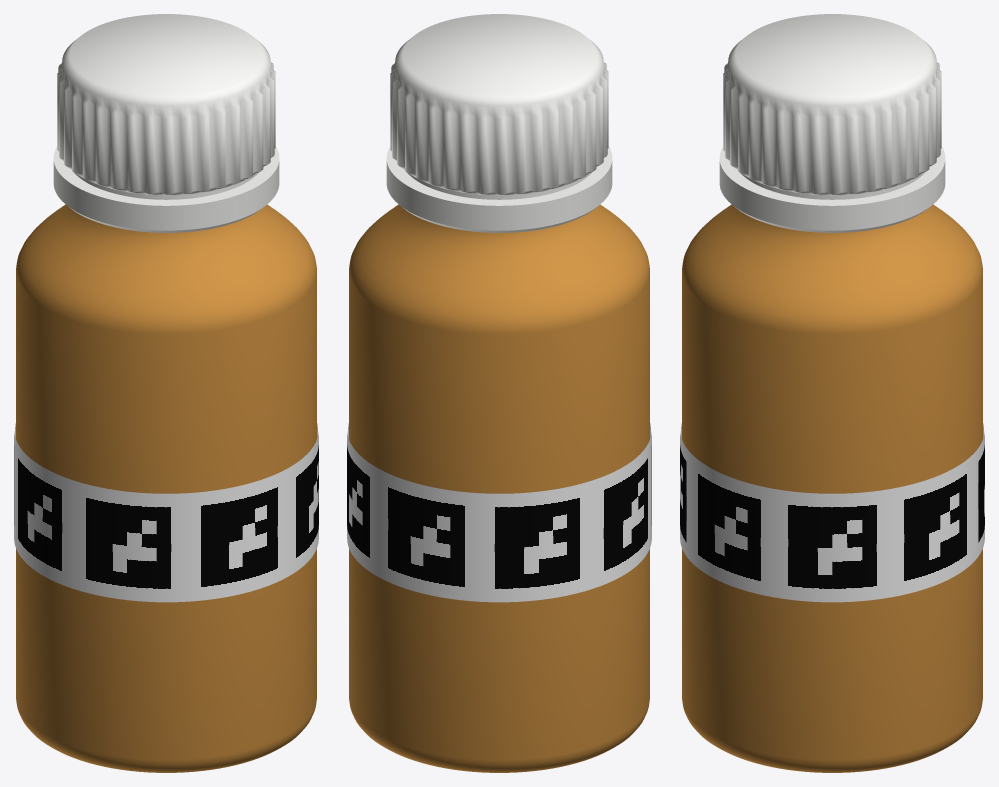
Rendered from SMP-0123_2008354050199.glb.
3 renders of one model, left to right at view 1: azimuth 30°, elevation 25°; view 2: azimuth 150°, elevation 25°; view 3: azimuth 270°, elevation 25°, orthographic.
Parts seen in each view (by area): view 1: Bottle_030ml, Cap_030ml_PP20, Label_SMP-0123; view 2: Bottle_030ml, Cap_030ml_PP20, Label_SMP-0123; view 3: Bottle_030ml, Cap_030ml_PP20, Label_SMP-0123.
Boxes of the visible parts, x1,y1,x2,y2 form: Bottle_030ml: (16,204,316,772); Cap_030ml_PP20: (53,14,279,232); Label_SMP-0123: (14,423,318,602); Bottle_030ml: (349,204,649,772); Cap_030ml_PP20: (386,14,612,232); Label_SMP-0123: (347,423,651,602); Bottle_030ml: (682,204,982,772); Cap_030ml_PP20: (719,14,945,232); Label_SMP-0123: (680,423,984,602).
Bounding box in the file's own units: 0.0321 × 0.077 × 0.0321.
Materials: 4 (1 with a texture image).
